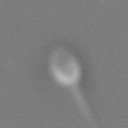normal: (70, 86, 102, 128)
